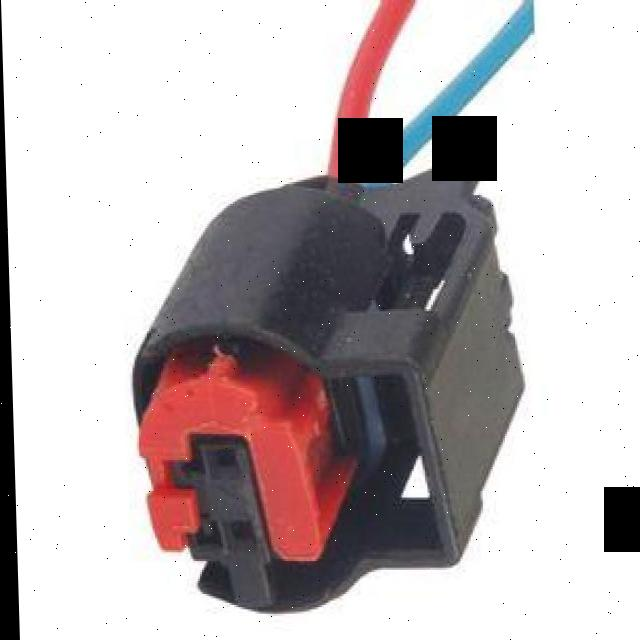connector: (108, 157, 542, 627)
